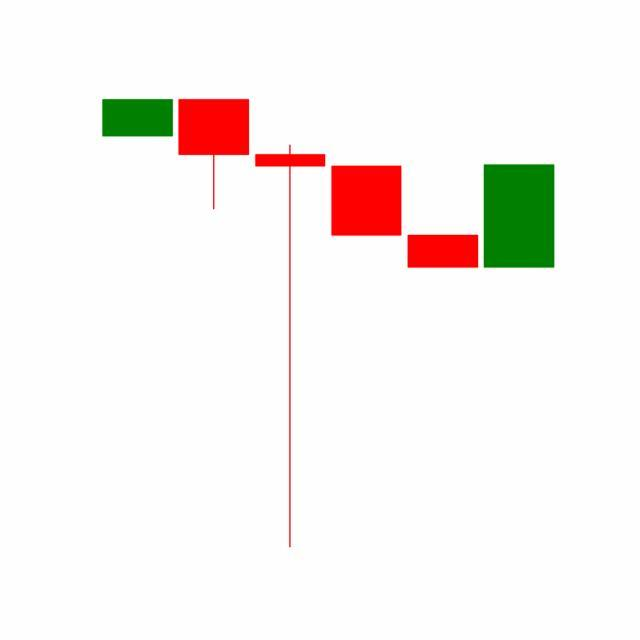Marubozu: (404, 235, 482, 269)
